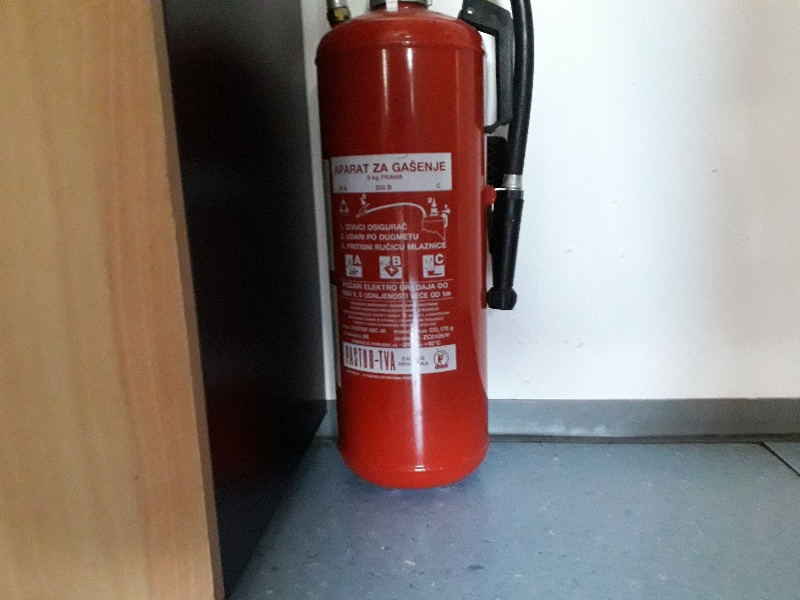vataparat: (313, 1, 534, 489)
